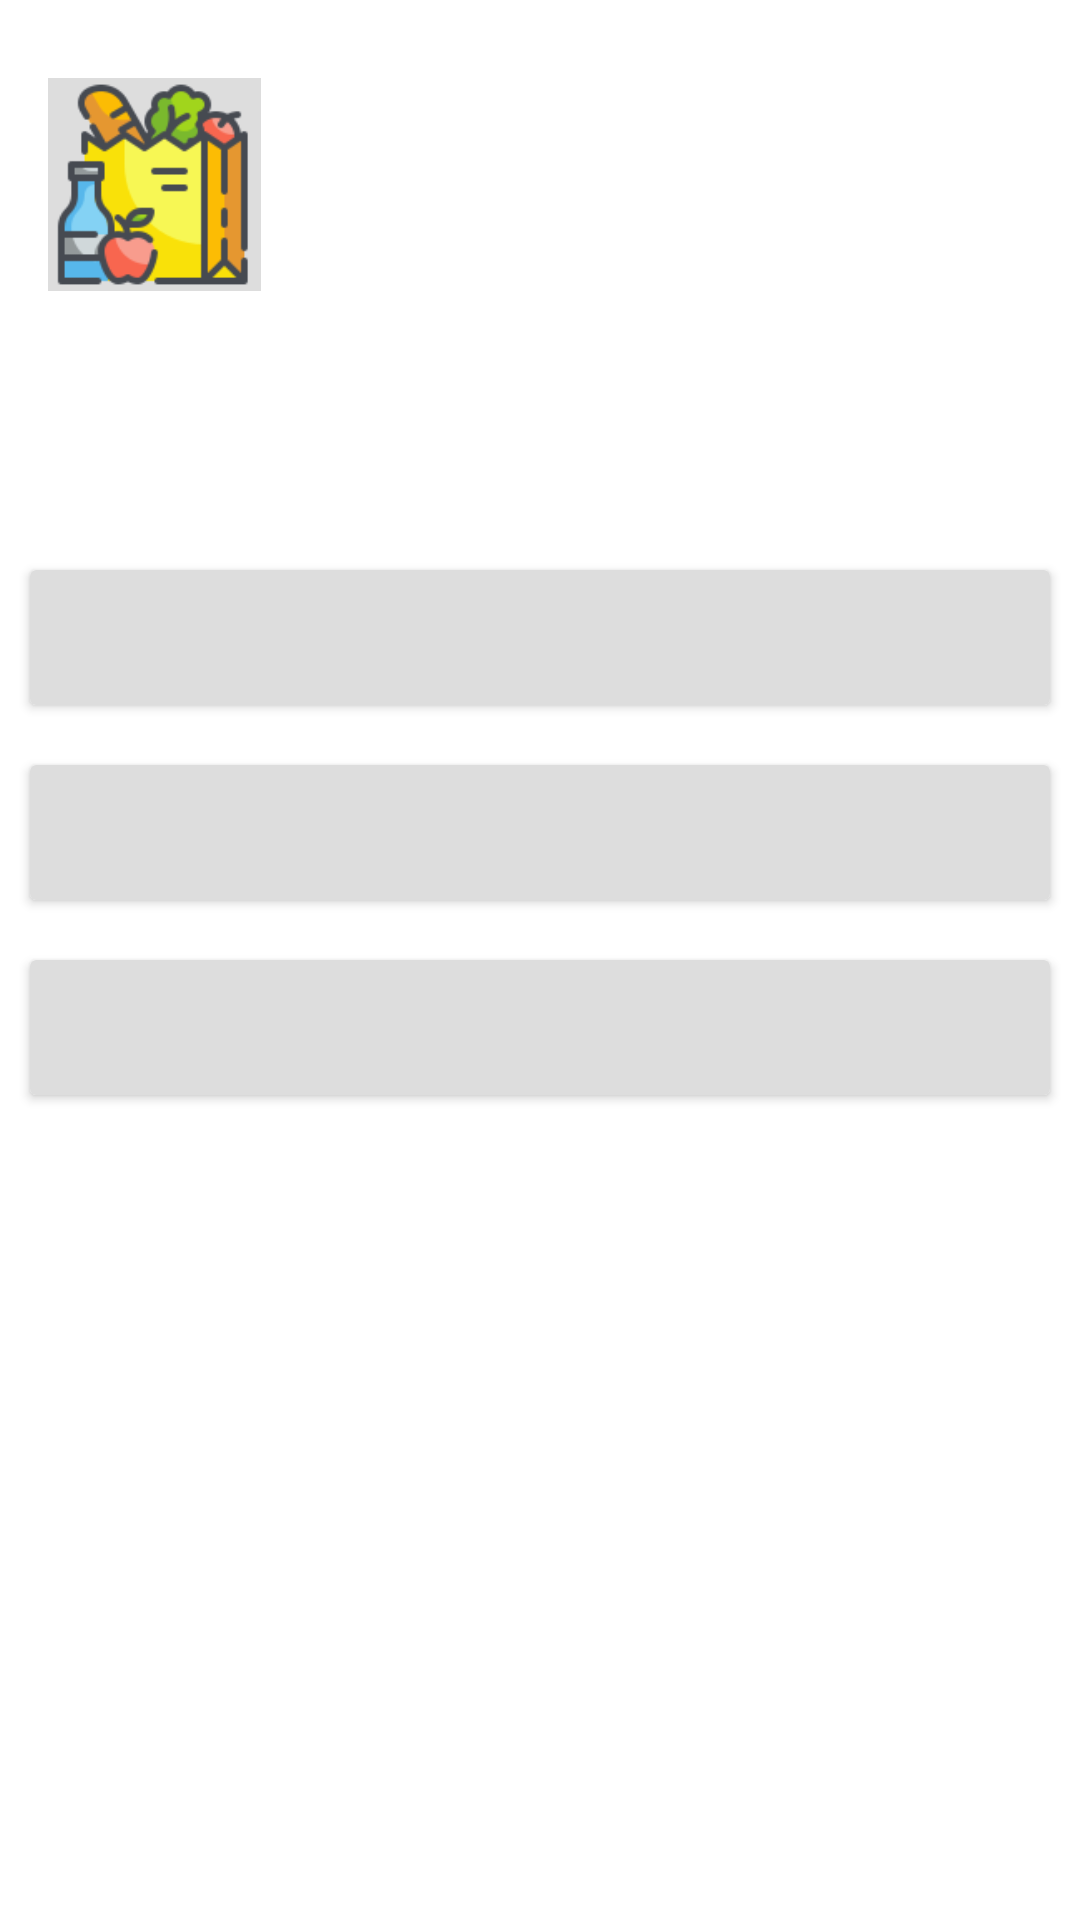

Screen size 1080w x 1920h. Icon name, then its box in pixels as (x1, y1, x2, y2):
grocery: (48, 78, 261, 291)
